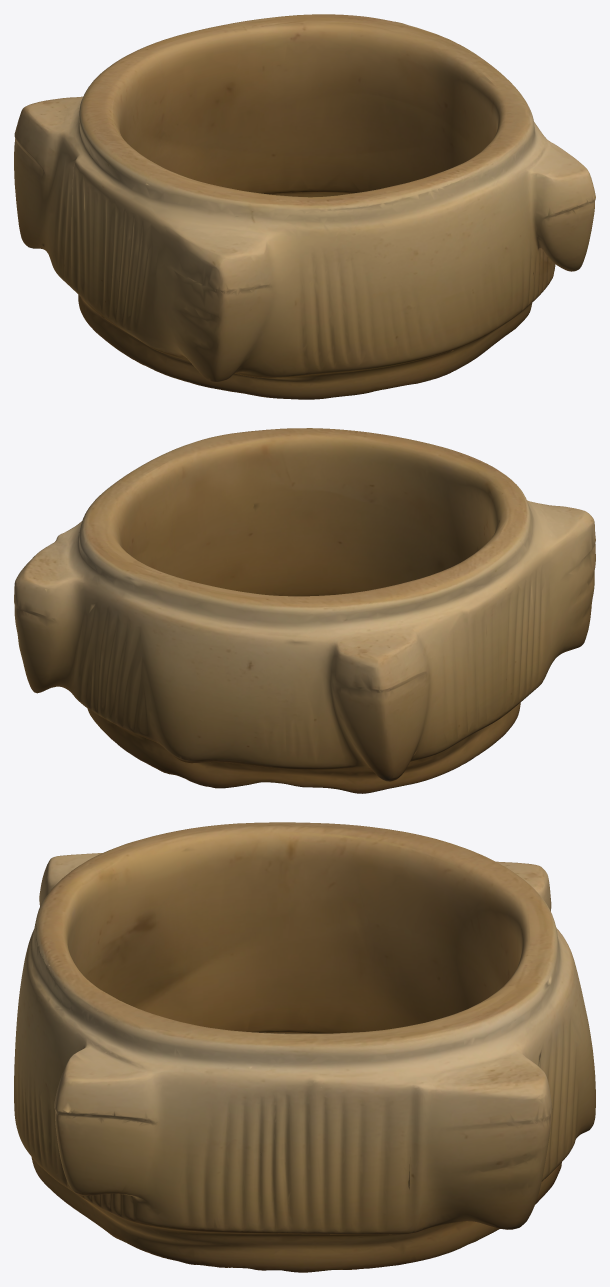
The model's file is fuhao-cicada-detail.glb.
3 views of the same model, one above another, from view 1: azimuth 30°, elevation 25°; view 2: azimuth 150°, elevation 25°; view 3: azimuth 270°, elevation 25° (orthographic). The views are drawn at different scales.
Parts seen in each view (by area): view 1: node_0; view 2: node_0; view 3: node_0.
Boxes of the visible parts, x1,y1,x2,y2 form: node_0: (14,14,595,399); node_0: (14,428,595,793); node_0: (14,822,595,1272).
Size of the model in its own units: 0.899 by 0.4166 by 0.9304.
1 material, 1 textured.
